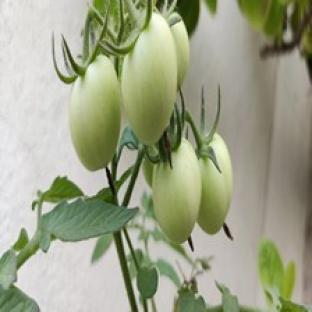Tomato: (122, 13, 176, 144), (69, 56, 121, 171), (152, 140, 201, 243), (198, 134, 232, 233), (172, 20, 189, 86), (143, 159, 153, 186)
